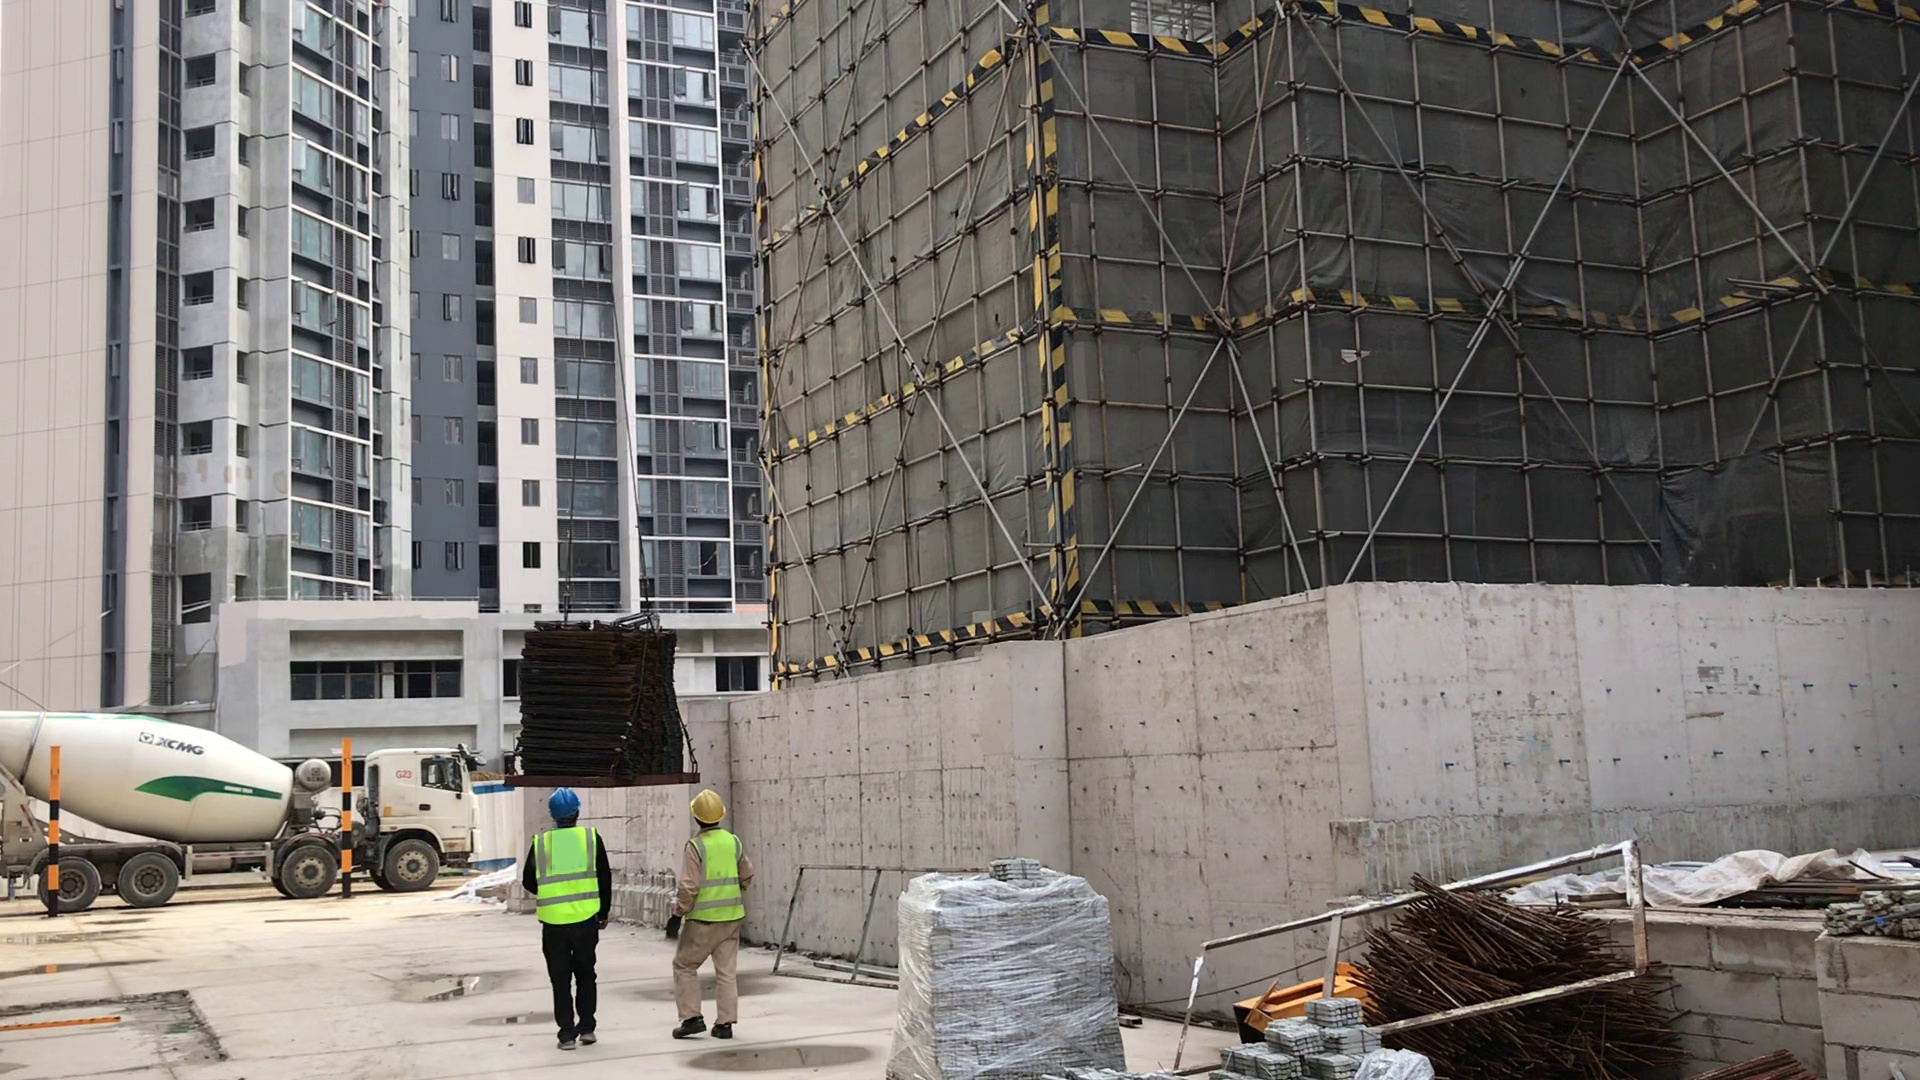helmet: (675, 786, 738, 828), (541, 782, 588, 820)
person: (516, 775, 616, 1051), (660, 785, 746, 1043)
vest: (520, 830, 619, 932), (681, 832, 747, 923)
